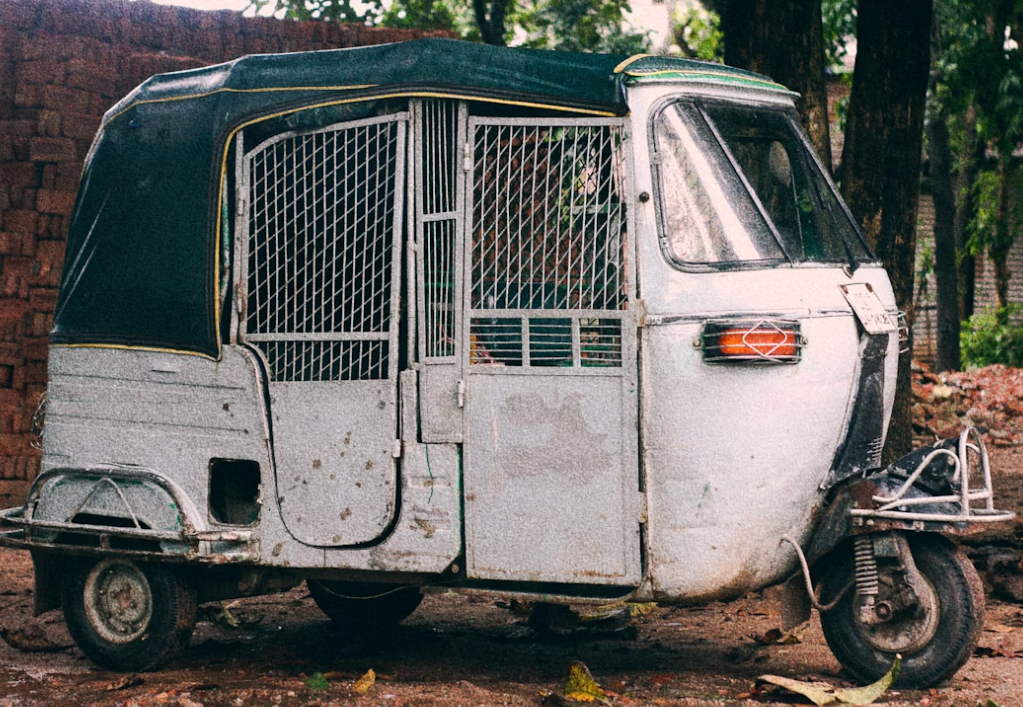cng: (12, 43, 1009, 694)
